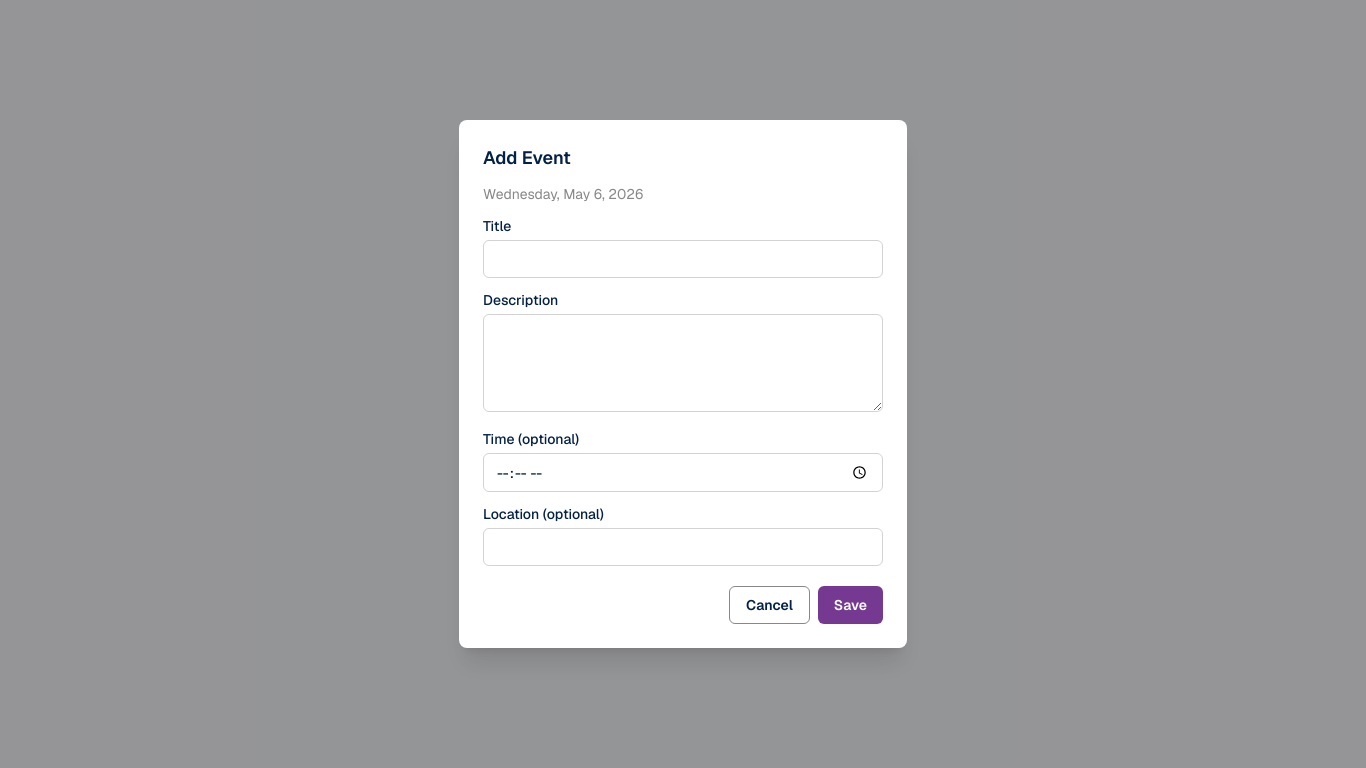
Scenario: EventFormModal › blocks save and shows errors when title/description are empty
The width and height of the screenshot is (1366, 768).
What coordinates should you click on to do the following:
click the button "Save"
I would click on:
 (850, 605)
Its box is [818,586,883,624].
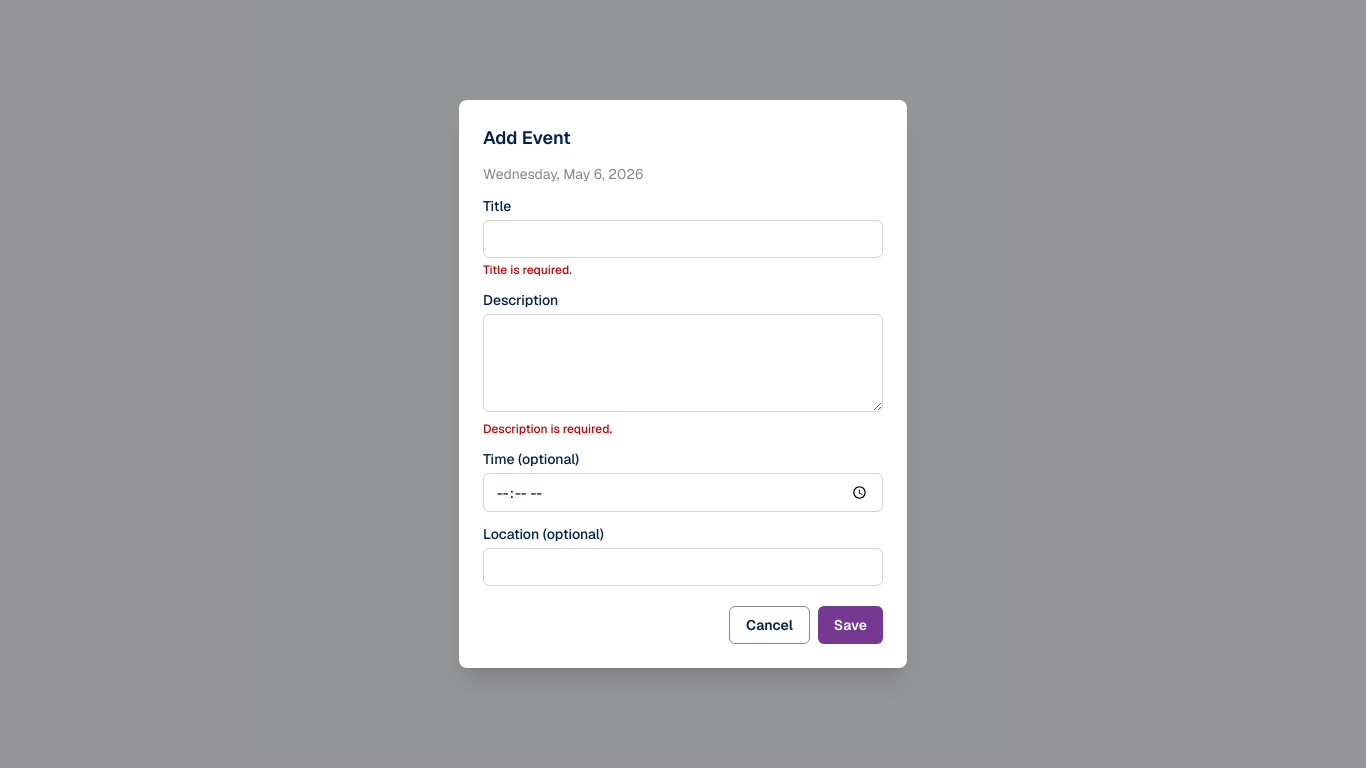
expect the text "Title is required." is shown: met, box [483,262,572,278]
expect the text "Description is required." is shown: met, box [483,421,612,437]
